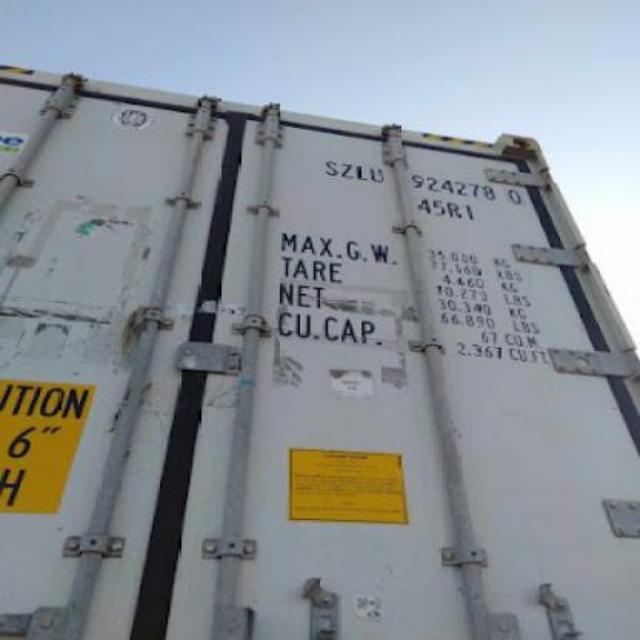0: (506, 188, 524, 204)
2: (452, 180, 472, 196), (426, 176, 439, 192)
4: (442, 180, 456, 194)
7: (466, 182, 482, 198)
8: (482, 184, 498, 200)
9: (410, 174, 426, 190)
L: (356, 166, 369, 182)
S: (324, 159, 340, 177)
U: (370, 167, 386, 183)
Z: (338, 161, 354, 179)
